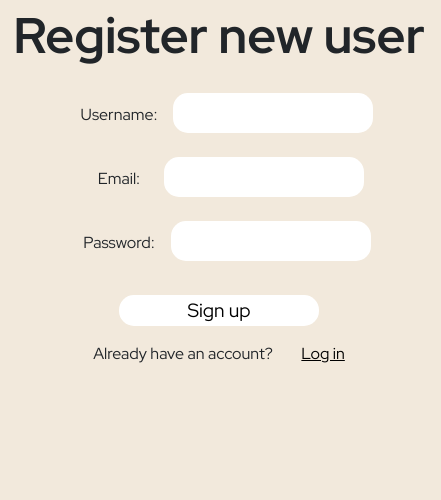
Test: SignUp Component › shows an error for short password
The width and height of the screenshot is (441, 500).
Type "123" into the password field labelled "Password:" at (271, 241), box [171,221,371,261]
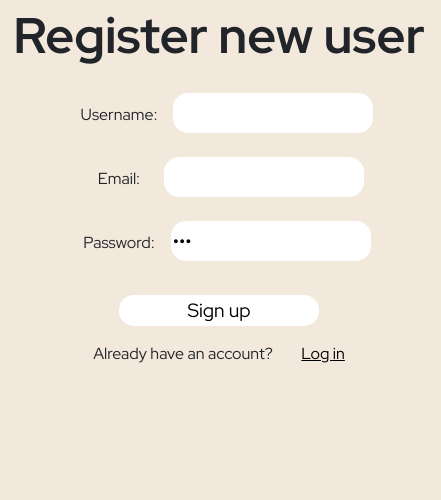
Click the button "Sign up" at (219, 310), box [119,295,319,326]
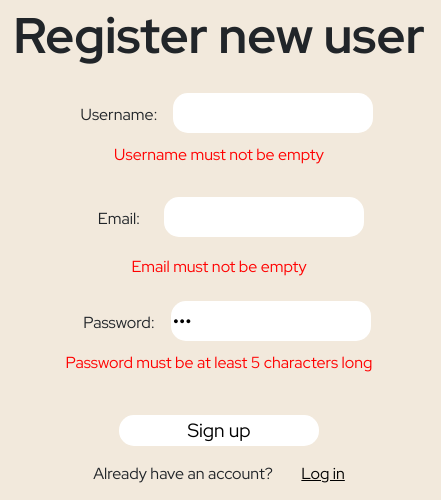
Check: the text "Password must be at least 5 characters long" is shown, box [66,352,372,373]
